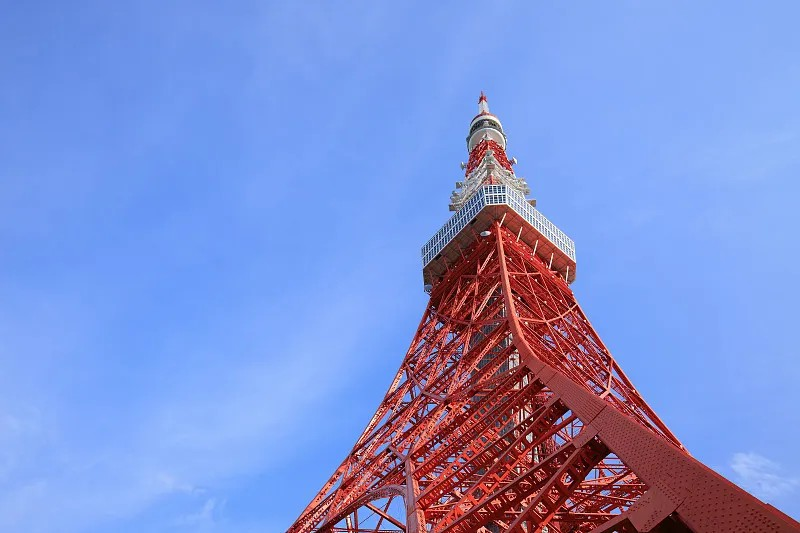Tokyo: (284, 84, 800, 532)
